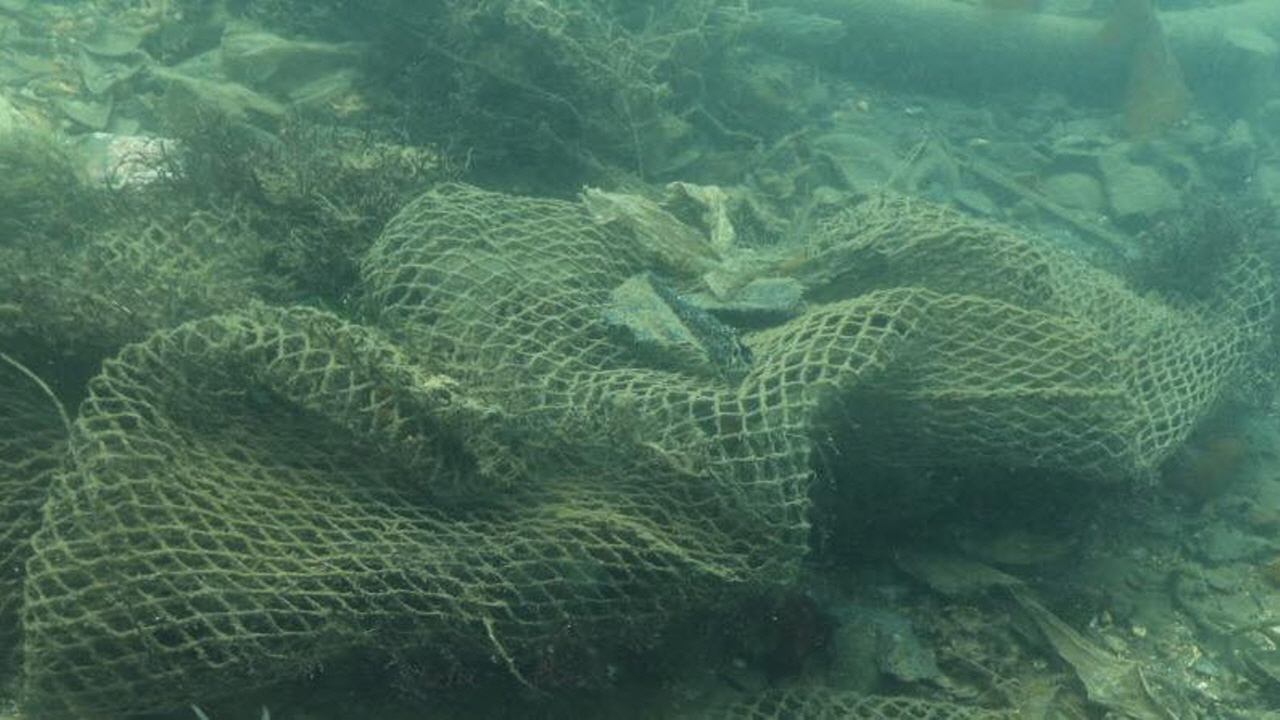fish net: (0, 182, 1274, 720)
